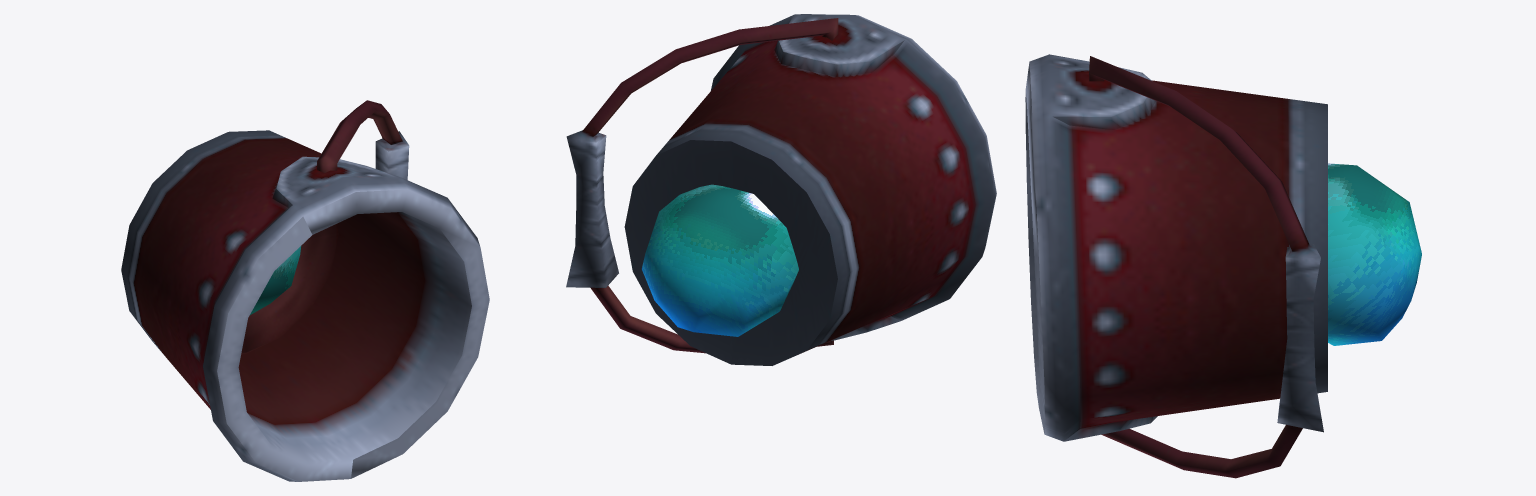
3 views of the same model, side by side, from view 1: azimuth 30°, elevation 25°; view 2: azimuth 150°, elevation 25°; view 3: azimuth 270°, elevation 25° (orthographic). The views are drawn at different scales.
Visible parts, largest first — view 1: waterbucket.part_model-MeshNodes["mesh_bucket_skew"], parts.model_balloon-MeshNodes["balloon"]; view 2: waterbucket.part_model-MeshNodes["mesh_bucket_skew"], parts.model_balloon-MeshNodes["balloon"]; view 3: waterbucket.part_model-MeshNodes["mesh_bucket_skew"], parts.model_balloon-MeshNodes["balloon"].
Boxes of the visible parts, <box> form: waterbucket.part_model-MeshNodes["mesh_bucket_skew"]: <box>121,100,489,481</box>; parts.model_balloon-MeshNodes["balloon"]: <box>250,246,301,314</box>; waterbucket.part_model-MeshNodes["mesh_bucket_skew"]: <box>566,14,996,365</box>; parts.model_balloon-MeshNodes["balloon"]: <box>642,184,798,336</box>; waterbucket.part_model-MeshNodes["mesh_bucket_skew"]: <box>1025,54,1327,478</box>; parts.model_balloon-MeshNodes["balloon"]: <box>1328,163,1421,345</box>.
Size of the model in its own units: 0.8963 by 0.8908 by 1.06.
Materials: 3 (3 with a texture image).
